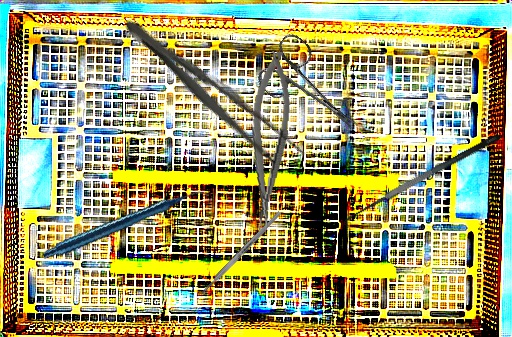Dressing Forceps: (113, 8, 311, 179)
Handpiece: (42, 157, 210, 294)
Iris Scissors: (249, 30, 378, 151)
Needle Holder: (239, 49, 298, 232)
Scalpel Handle: (199, 210, 283, 296)
Spatula Surgical: (336, 132, 509, 235)
